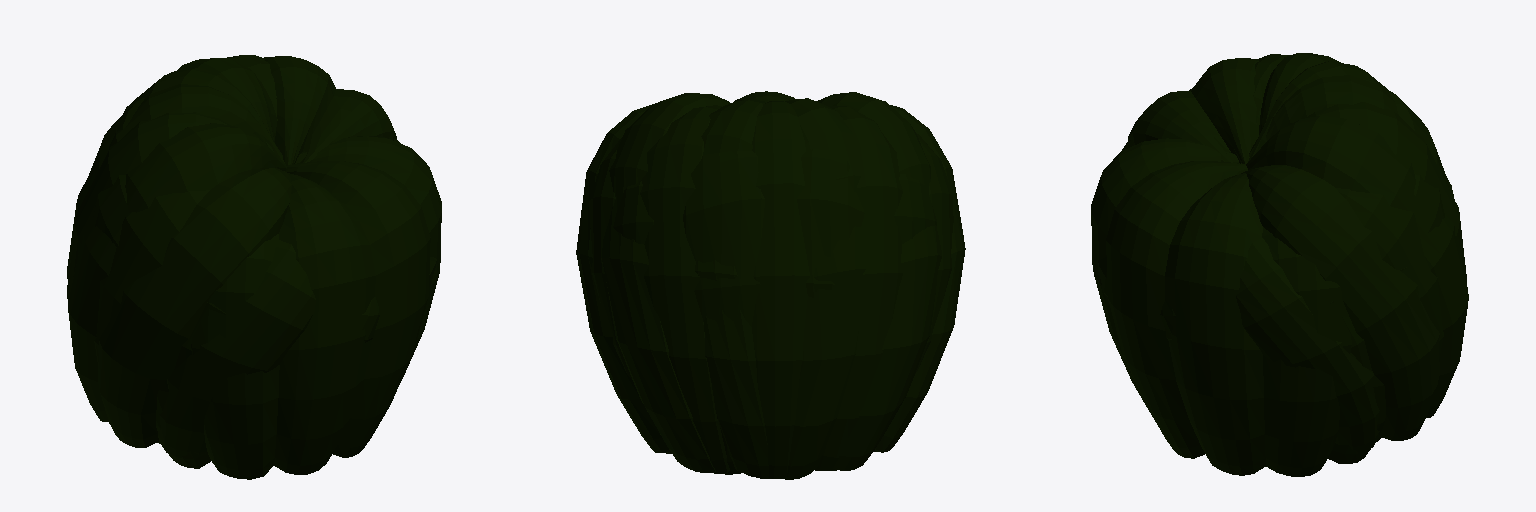
Rendered from cactus3.obj.
3 renders of one model, left to right at view 1: azimuth 30°, elevation 25°; view 2: azimuth 150°, elevation 25°; view 3: azimuth 270°, elevation 25°, orthographic.
Parts seen in each view (by area): view 1: CACTUS0, CACTUS2, CACTUS1, CACTUS3; view 2: CACTUS1, CACTUS2, CACTUS3; view 3: CACTUS0, CACTUS3, CACTUS1, CACTUS2.
Boxes of the visible parts, box(x1,y1,x2,y2) form: CACTUS0: box(156, 136, 441, 479); CACTUS2: box(67, 71, 379, 457); CACTUS1: box(67, 55, 284, 369); CACTUS3: box(89, 56, 436, 290); CACTUS1: box(589, 101, 953, 478); CACTUS2: box(613, 92, 965, 479); CACTUS3: box(576, 93, 936, 478); CACTUS0: box(1091, 138, 1406, 476); CACTUS3: box(1160, 75, 1468, 453); CACTUS1: box(1189, 54, 1466, 370); CACTUS2: box(1098, 53, 1454, 296).
Size of the model in its own units: 3.04 by 3.02 by 2.99.